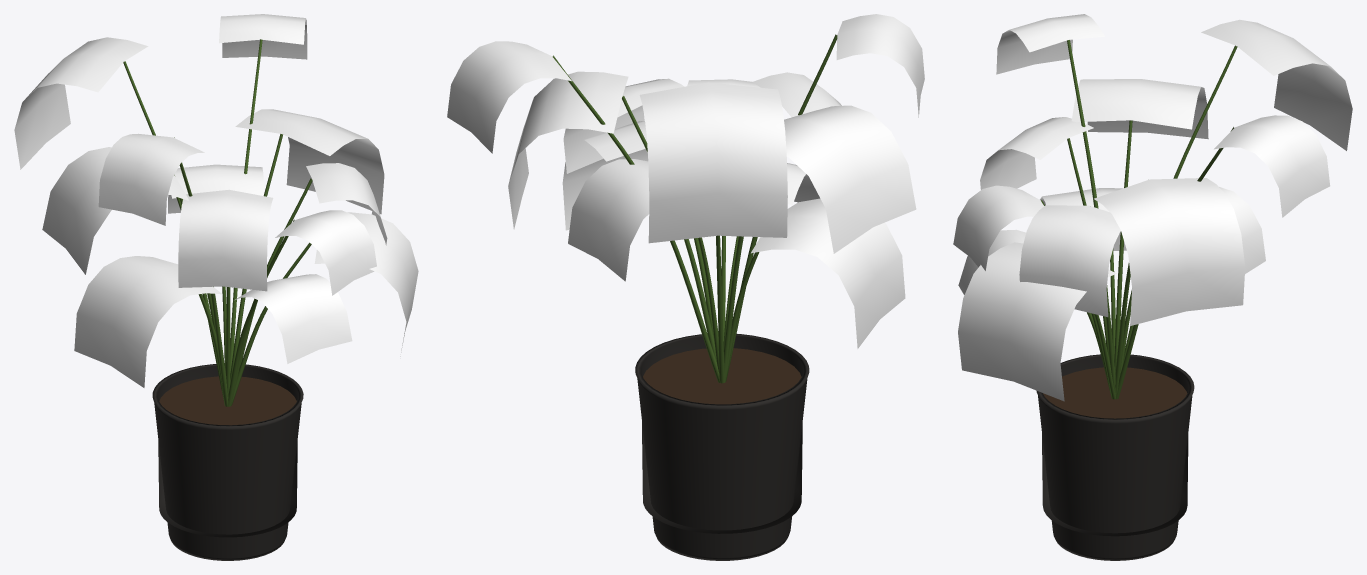
File: plant_large.glb
3 views of the same model, side by side, from view 1: azimuth 30°, elevation 25°; view 2: azimuth 150°, elevation 25°; view 3: azimuth 270°, elevation 25° (orthographic). The views are drawn at different scales.
Parts seen in each view (by area): view 1: plant_large__leaf, plant_large__ceramic_dark, plant_large__plant_stem, plant_large__soil__noshadow; view 2: plant_large__leaf, plant_large__ceramic_dark, plant_large__plant_stem, plant_large__soil__noshadow; view 3: plant_large__leaf, plant_large__ceramic_dark, plant_large__plant_stem, plant_large__soil__noshadow.
Boxes of the visible parts, bbox=[...] form: plant_large__leaf: bbox=[14, 14, 418, 387]; plant_large__ceramic_dark: bbox=[152, 364, 303, 560]; plant_large__plant_stem: bbox=[123, 39, 312, 406]; plant_large__soil__noshadow: bbox=[159, 376, 296, 425]; plant_large__leaf: bbox=[447, 14, 924, 348]; plant_large__ceramic_dark: bbox=[635, 334, 809, 560]; plant_large__plant_stem: bbox=[552, 34, 837, 383]; plant_large__soil__noshadow: bbox=[643, 348, 801, 404]; plant_large__leaf: bbox=[953, 14, 1352, 401]; plant_large__ceramic_dark: bbox=[1036, 354, 1194, 560]; plant_large__plant_stem: bbox=[1041, 40, 1237, 399]; plant_large__soil__noshadow: bbox=[1043, 367, 1187, 418].
Bounding box in the file's own units: 0.9963 × 1.33 × 1.03.
